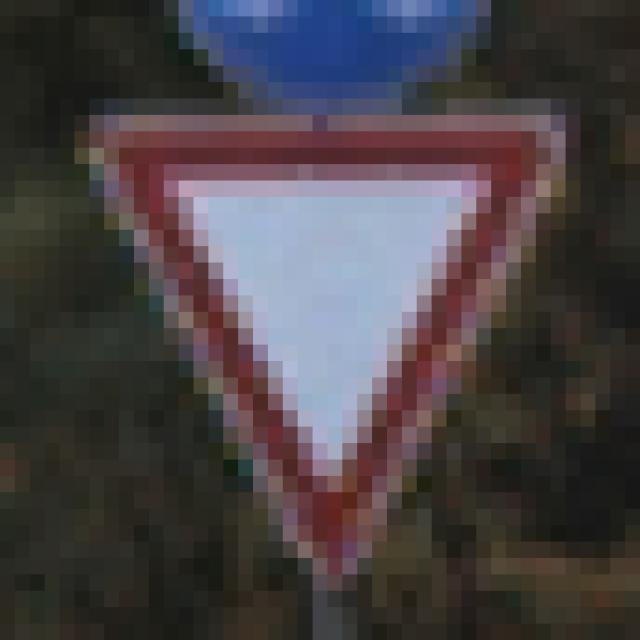Give Way: (75, 83, 552, 559)
